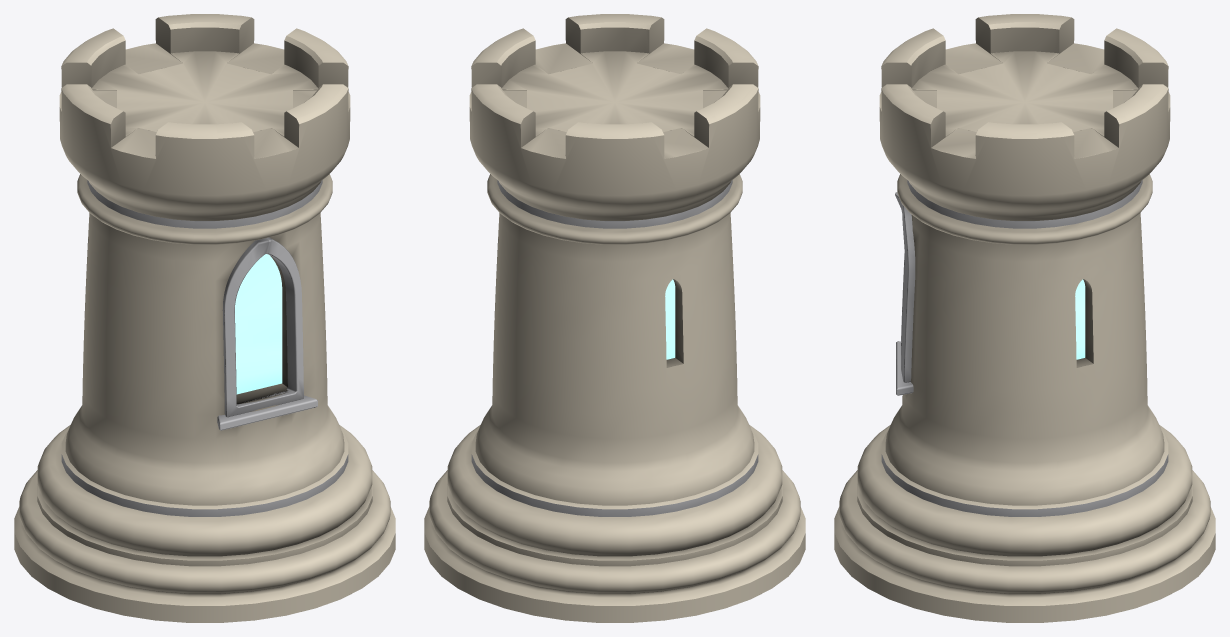
File: rook.glb
The picture shows the model from 3 angles, left to right: view 1: azimuth 30°, elevation 25°; view 2: azimuth 150°, elevation 25°; view 3: azimuth 270°, elevation 25°; orthographic projection.
Parts seen in each view (by area): view 1: rook; view 2: rook; view 3: rook.
Boxes of the visible parts, left/top/right/bottom form: rook: left=14, top=14, right=395, bottom=622; rook: left=424, top=14, right=805, bottom=622; rook: left=834, top=14, right=1215, bottom=622.
Size of the model in its own units: 0.7372 by 1 by 0.7372.
